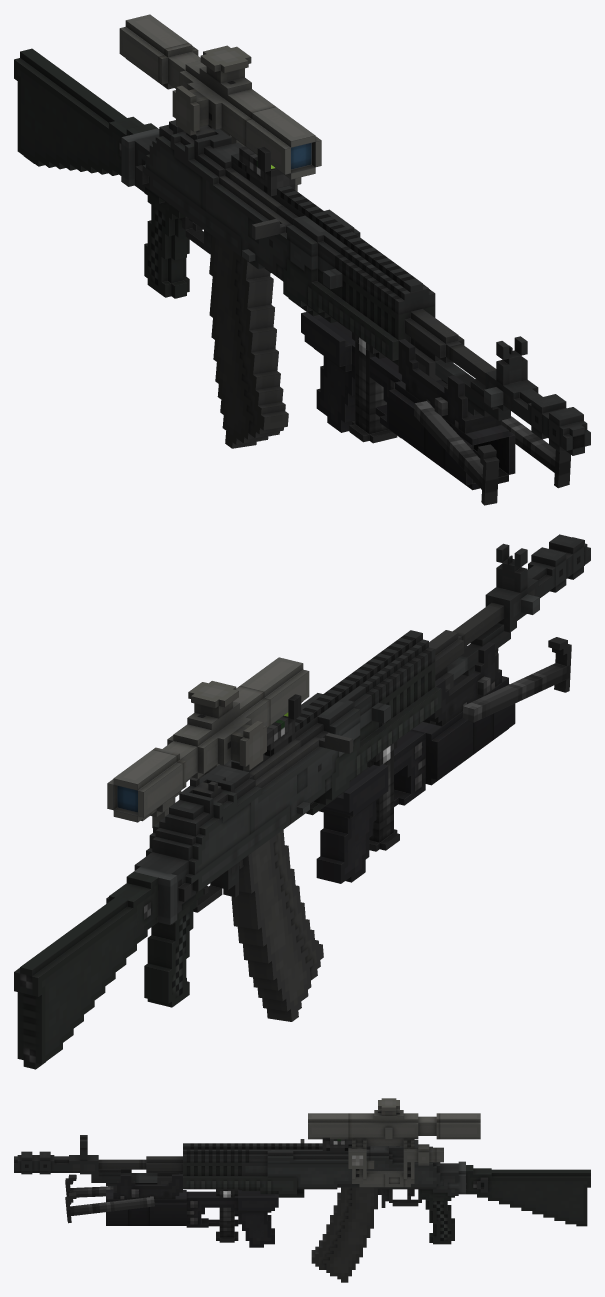
Rendered from RD_ABAKAN.glb.
3 renders of one model, top to bottom at view 1: azimuth 30°, elevation 25°; view 2: azimuth 150°, elevation 25°; view 3: azimuth 270°, elevation 25°, orthographic. The views are drawn at different scales.
Visible parts, largest first — view 1: AH94, SCOPE_PSO1, GP_GP30, AH94_CLIP, AH94_BARREL, DIPOD1_LEG1, AH94_PLANK, GRIP1, DIPOD1_LEG2, SCOPE_AIMPOINT; view 2: AH94, GP_GP30, SCOPE_PSO1, AH94_CLIP, AH94_BARREL, DIPOD1_LEG1, AH94_PLANK, GRIP1, SCOPE_AIMPOINT; view 3: AH94, SCOPE_PSO1, GP_GP30, AH94_CLIP, AH94_BARREL, DIPOD1_LEG2, AH94_PLANK, GRIP1, DIPOD1_LEG1, SCOPE_AIMPOINT.
Part boxes in pixels (box(x1,y1,x2,y2)): AH94: box(14, 48, 510, 420); SCOPE_PSO1: box(119, 14, 321, 191); GP_GP30: box(301, 312, 515, 490); AH94_CLIP: box(209, 236, 288, 448); AH94_BARREL: box(404, 309, 590, 455); DIPOD1_LEG1: box(414, 401, 499, 505); AH94_PLANK: box(231, 153, 422, 292); GRIP1: box(349, 332, 397, 443); DIPOD1_LEG2: box(502, 416, 570, 488); SCOPE_AIMPOINT: box(239, 146, 295, 196); AH94: box(14, 623, 510, 1069); GP_GP30: box(316, 642, 515, 883); SCOPE_PSO1: box(107, 657, 309, 827); AH94_CLIP: box(231, 830, 323, 1021); AH94_BARREL: box(429, 534, 590, 674); DIPOD1_LEG1: box(462, 637, 571, 722); AH94_PLANK: box(231, 630, 422, 770); GRIP1: box(367, 740, 399, 851); SCOPE_AIMPOINT: box(264, 694, 301, 756); AH94: box(91, 1140, 590, 1244); SCOPE_PSO1: box(308, 1098, 480, 1187); GP_GP30: box(106, 1169, 278, 1247); AH94_CLIP: box(311, 1187, 381, 1282); AH94_BARREL: box(14, 1135, 182, 1177); DIPOD1_LEG2: box(65, 1192, 154, 1223); AH94_PLANK: box(183, 1143, 370, 1149); GRIP1: box(216, 1189, 238, 1242); DIPOD1_LEG1: box(65, 1174, 113, 1204); SCOPE_AIMPOINT: box(322, 1137, 351, 1150).
Size of the model in its own units: 0.1574 by 0.5423 by 1.54.
Materials: 7 (7 with a texture image).
